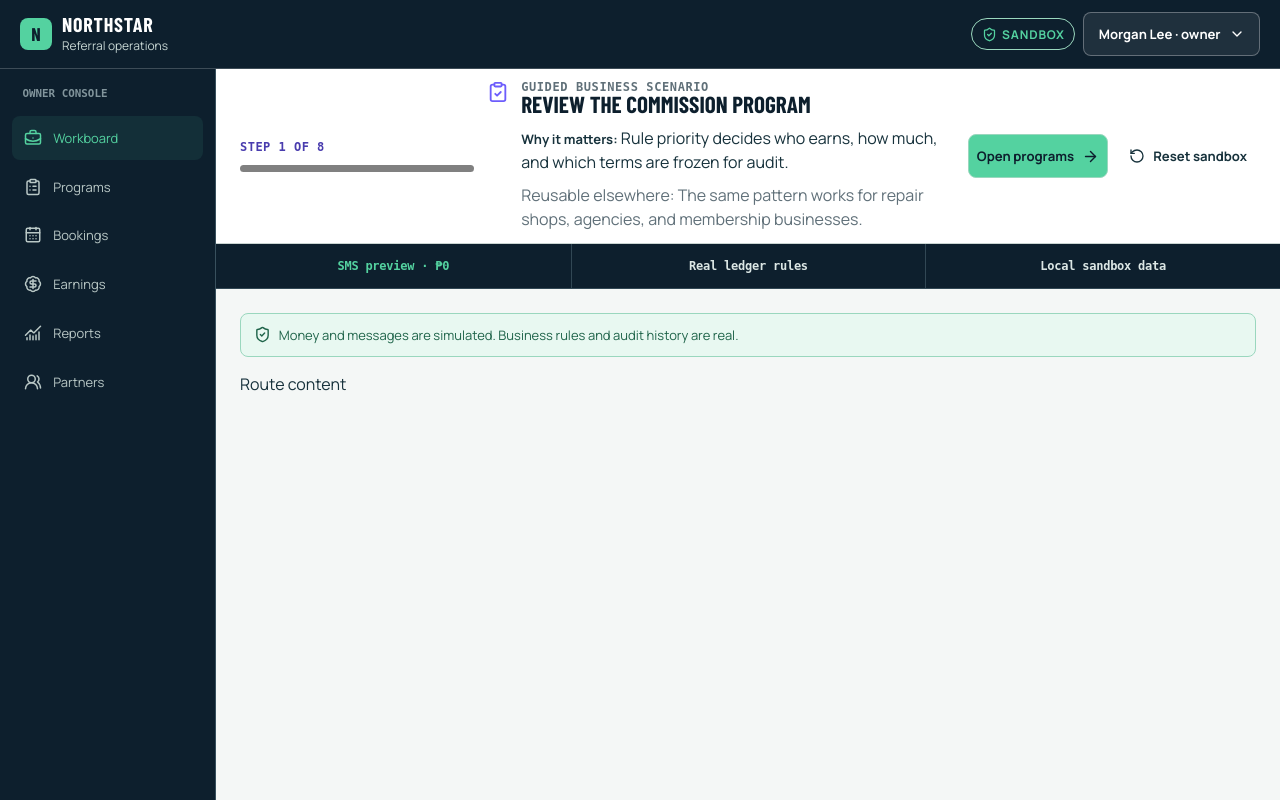
Scenario: SandboxWorkspaceProvider guided composition › never restores old-role records after a session cookie has rotated
Expected: the text "Route content" is shown, [240, 373, 346, 395]
Click the button with aria-label "switch persona". click: (1172, 34)
box: [1083, 12, 1260, 56]
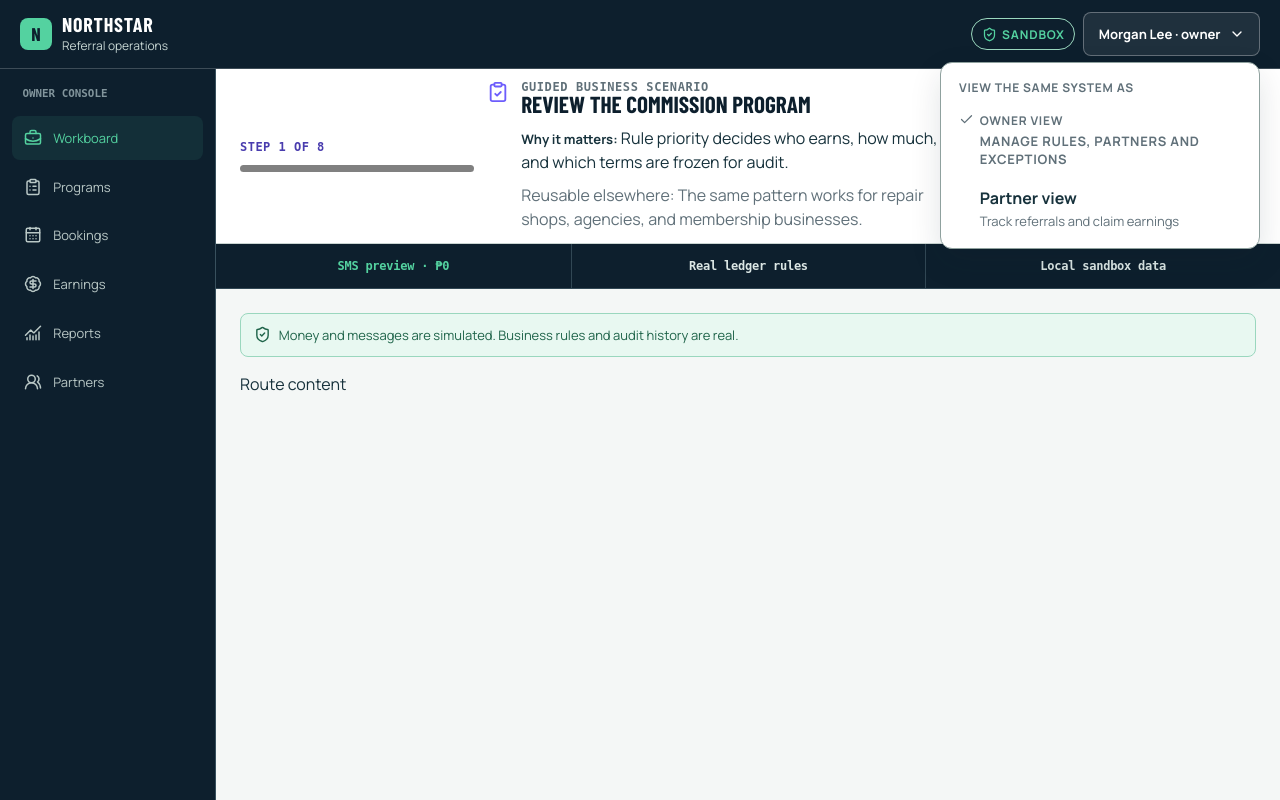
Click the menu item "Partner view Track referrals and claim earnings". click: (1080, 208)
box: [980, 187, 1179, 230]
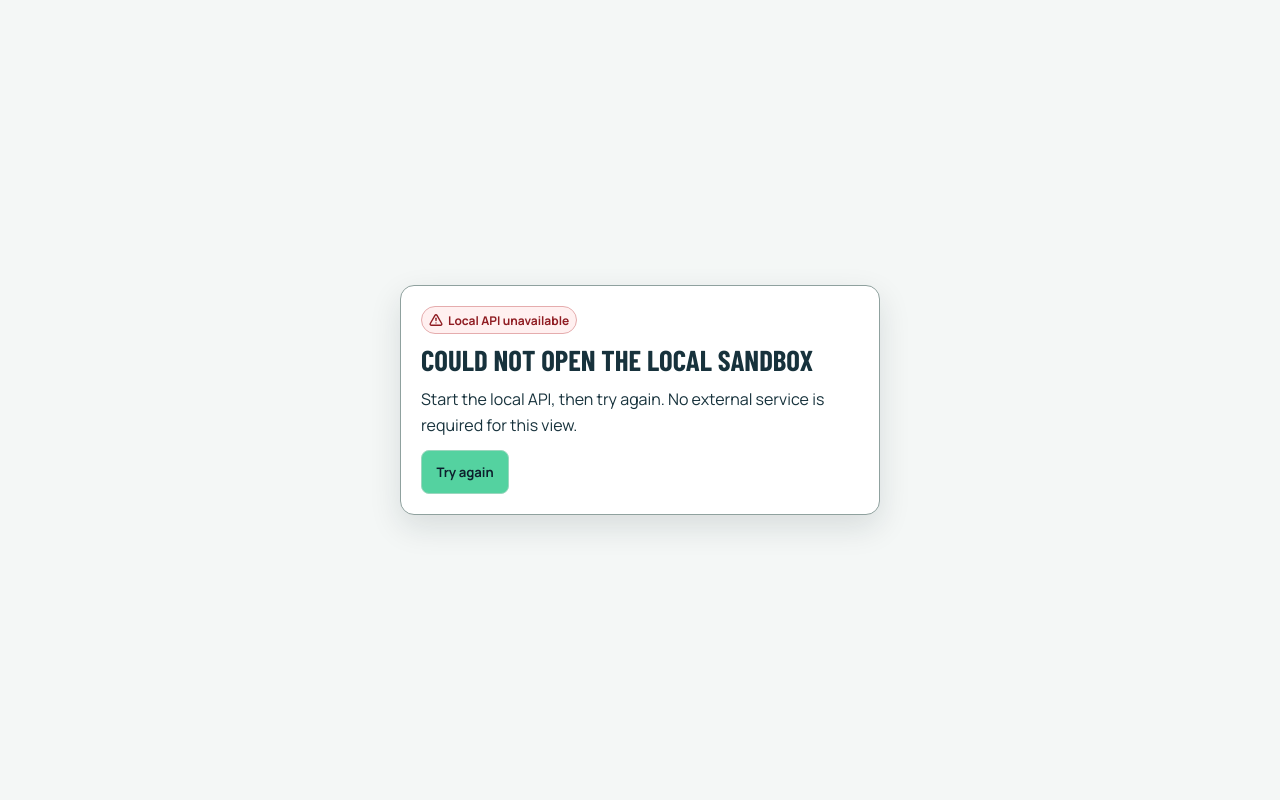
Now the message shows "Could not open the local sandbox", box [421, 342, 813, 377]
Now the text "Route content" is gone
